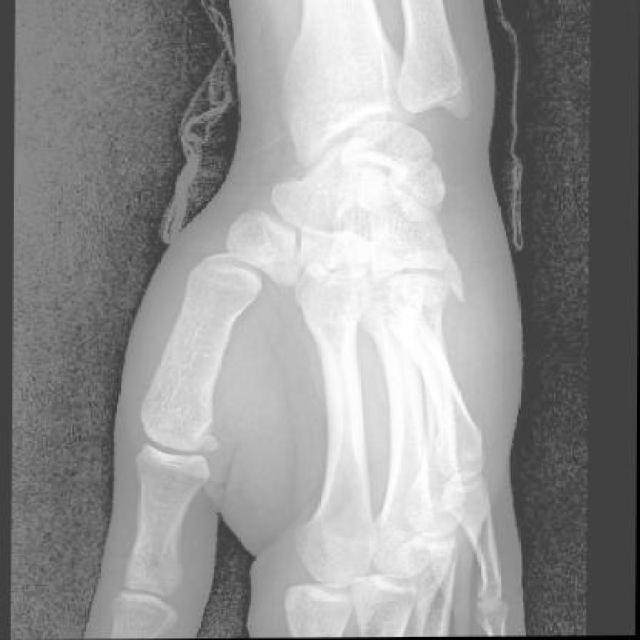Fracture: (370, 249, 472, 344)
